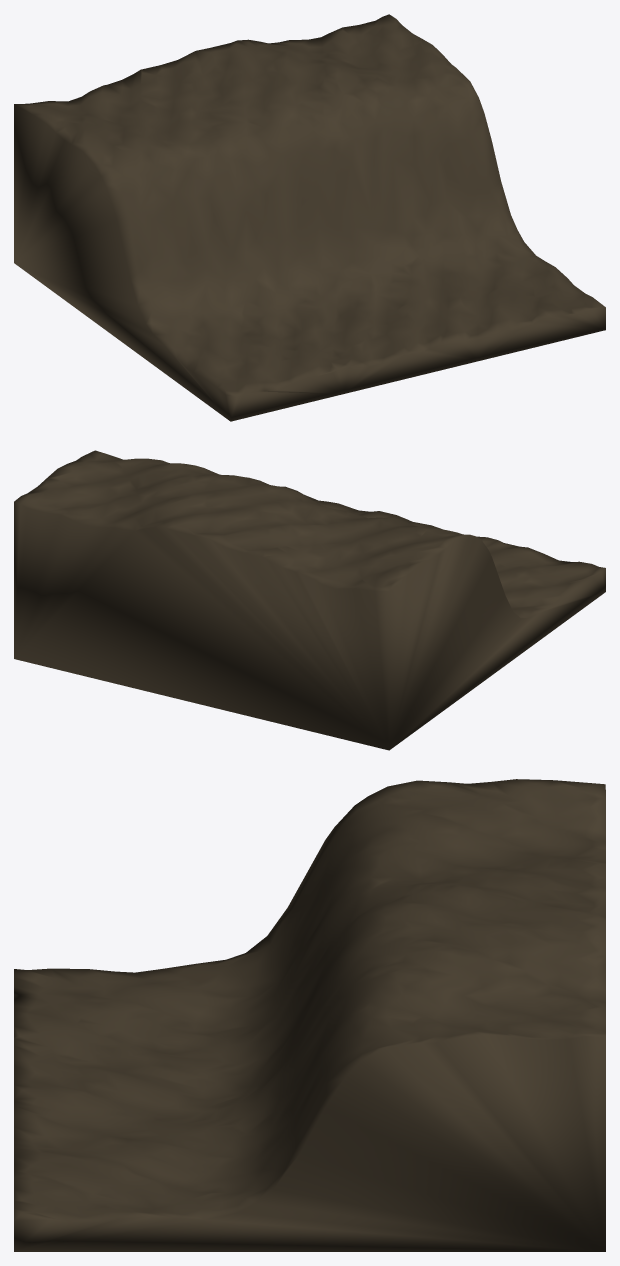
Rendered from eroded-bank.lod1.glb.
The picture shows the model from 3 angles, top to bottom: view 1: azimuth 30°, elevation 25°; view 2: azimuth 150°, elevation 25°; view 3: azimuth 270°, elevation 25°; orthographic projection. The views are drawn at different scales.
Parts seen in each view (by area): view 1: eroded-bank; view 2: eroded-bank; view 3: eroded-bank.
Part boxes in pixels (x1=…): eroded-bank: x1=14, y1=14, x2=605, y2=421; eroded-bank: x1=14, y1=450, x2=605, y2=750; eroded-bank: x1=14, y1=779, x2=605, y2=1251.
Bounding box in the file's own units: 3 × 1.29 × 3.
